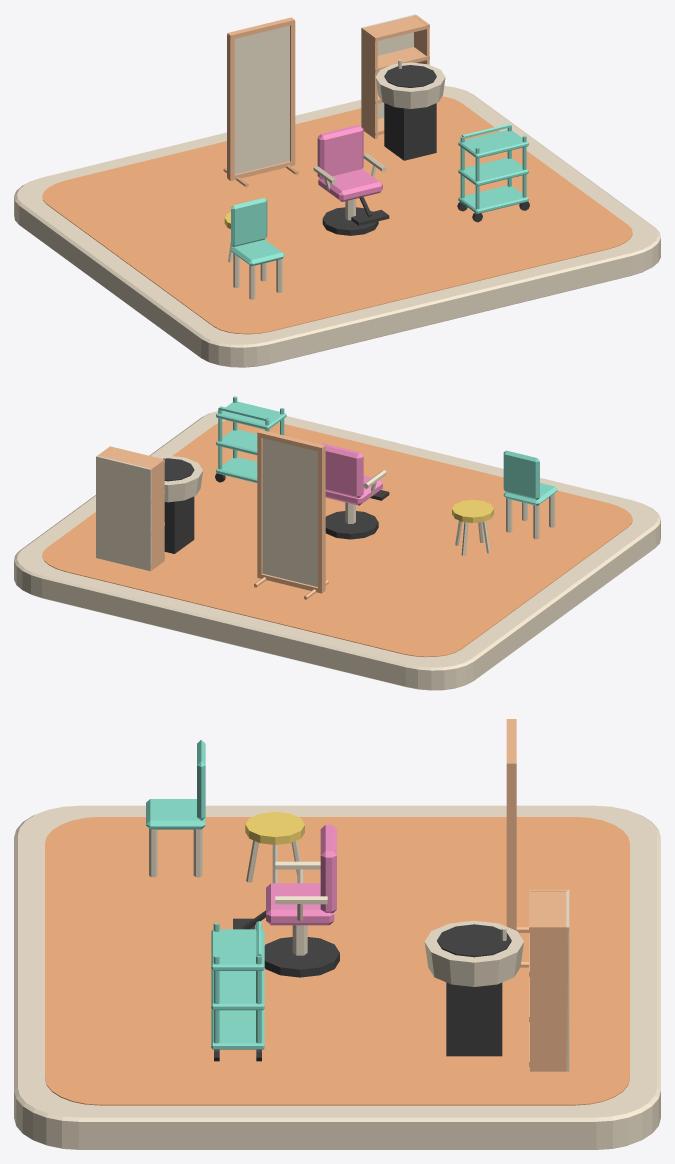
The model's file is room.fbx.
The picture shows the model from 3 angles, top to bottom: view 1: azimuth 30°, elevation 25°; view 2: azimuth 150°, elevation 25°; view 3: azimuth 270°, elevation 25°; orthographic projection. The views are drawn at different scales.
Visible parts, largest first — view 1: COM-02 Floor Surface, COM-01 Rounded Base Direct, Mirror face, Pedestal, Back, Bowl, Backrest, Side, Seat, Tray.002, Frame, Tray.001 (+9 smaller); view 2: COM-02 Floor Surface, COM-01 Rounded Base Direct, Mirror face, Back.001, Back, Backrest, Pedestal, Side, Base, Frame, Bowl, Tray.002 (+9 smaller); view 3: COM-02 Floor Surface, COM-01 Rounded Base Direct, Side.001, Pedestal, Bowl, Base, Seat, Tray.002, Inset, Frame.001, Tray, Tray.001 (+5 smaller).
Boxes of the visible parts, box(x1,y1,x2,y2) form: COM-02 Floor Surface: box(42, 96, 632, 334); COM-01 Rounded Base Direct: box(14, 86, 660, 367); Mirror face: box(234, 25, 289, 174); Pedestal: box(384, 103, 436, 160); Back: box(317, 125, 363, 178); Bowl: box(375, 62, 445, 108); Backrest: box(231, 198, 267, 246); Side: box(361, 27, 377, 138); Seat: box(318, 169, 382, 201); Tray.002: box(458, 130, 528, 158); Frame: box(227, 34, 234, 179); Tray.001: box(458, 157, 528, 186); COM-02 Floor Surface: box(42, 420, 632, 657); COM-01 Rounded Base Direct: box(14, 411, 660, 690); Mirror face: box(262, 438, 317, 586); Back.001: box(96, 456, 151, 571); Back: box(321, 443, 363, 497); Backrest: box(503, 450, 539, 499); Pedestal: box(164, 496, 194, 553); Side: box(149, 459, 164, 569); Base: box(325, 511, 378, 539); Frame: box(318, 447, 325, 591); Bowl: box(155, 455, 202, 502); Tray.002: box(216, 401, 286, 430); COM-02 Floor Surface: box(45, 817, 629, 1105); COM-01 Rounded Base Direct: box(14, 805, 660, 1149); Side.001: box(530, 925, 567, 1071); Pedestal: box(446, 982, 502, 1056); Bowl: box(424, 920, 523, 986); Base: box(264, 937, 339, 977); Seat: box(266, 883, 334, 925); Tray.002: box(211, 929, 264, 970); Inset: box(437, 924, 511, 957); Frame.001: box(506, 765, 516, 930); Tray: box(211, 1009, 264, 1049); Tray.001: box(211, 970, 264, 1010).
Bounding box in the file's own units: 600 × 215 × 520.
